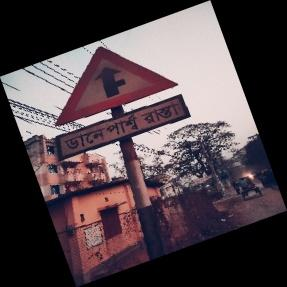Side-road-right: (55, 46, 193, 168)
